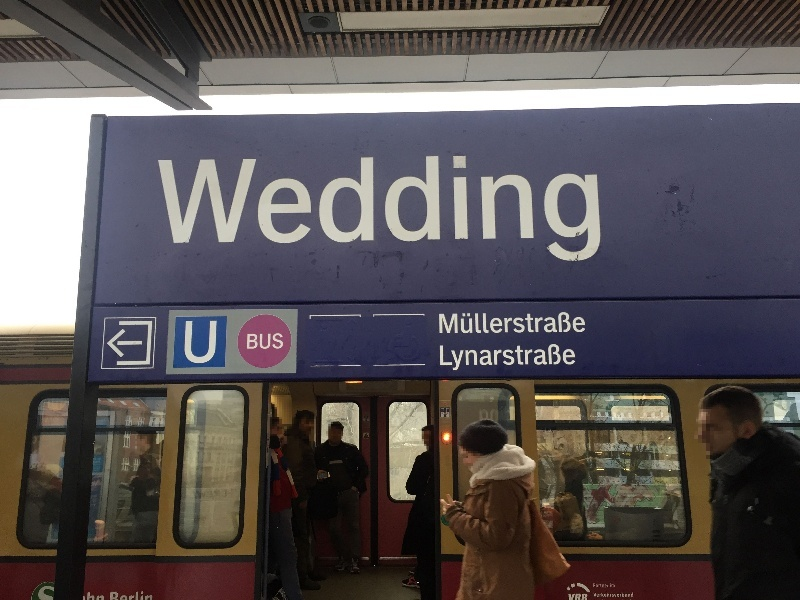text: (161, 155, 176, 266), (177, 155, 192, 266), (193, 155, 208, 266), (209, 155, 224, 266), (225, 155, 240, 266), (241, 155, 256, 266), (257, 155, 272, 266), (273, 155, 288, 266), (289, 155, 304, 266), (305, 155, 320, 266), (321, 155, 336, 266), (337, 155, 352, 266), (353, 155, 368, 266), (369, 155, 384, 266), (385, 155, 400, 266), (401, 155, 416, 266), (417, 155, 432, 266), (433, 155, 448, 266), (449, 155, 464, 266), (465, 155, 480, 266), (481, 155, 496, 266), (497, 155, 512, 266), (513, 155, 528, 266), (529, 155, 544, 266), (545, 155, 560, 266), (561, 155, 576, 266), (577, 155, 592, 266), (545, 407, 560, 510), (561, 407, 576, 510), (577, 407, 592, 510), (593, 407, 608, 510), (609, 407, 624, 510), (625, 407, 640, 510), (641, 407, 656, 510), (657, 407, 672, 510), (593, 155, 605, 266), (673, 407, 684, 510), (593, 474, 608, 529), (536, 407, 544, 510), (579, 474, 592, 529), (609, 474, 622, 529), (193, 321, 208, 364), (641, 477, 657, 511), (625, 477, 640, 511), (449, 344, 464, 372), (465, 344, 480, 372), (481, 344, 496, 372), (497, 344, 512, 372), (513, 344, 528, 372), (529, 344, 544, 372), (545, 344, 560, 372), (561, 344, 576, 372), (449, 312, 464, 335), (465, 312, 480, 335), (481, 312, 496, 335), (497, 312, 512, 335), (513, 312, 528, 335), (529, 312, 544, 335), (545, 312, 560, 335), (561, 312, 576, 335), (209, 321, 217, 364), (157, 155, 160, 266), (186, 321, 192, 364), (257, 334, 272, 350), (481, 410, 496, 425), (440, 344, 448, 372), (439, 312, 448, 335), (577, 312, 586, 335), (273, 334, 283, 350), (248, 334, 256, 350), (97, 592, 112, 600), (113, 592, 128, 600), (129, 592, 144, 600), (209, 490, 224, 498), (39, 587, 48, 600), (84, 592, 96, 600), (197, 490, 208, 498), (49, 587, 55, 600), (609, 593, 624, 598), (594, 593, 608, 598), (577, 594, 588, 600), (145, 592, 153, 600), (593, 584, 608, 588), (610, 584, 624, 588), (625, 593, 634, 598), (569, 594, 576, 600), (497, 410, 499, 425), (225, 490, 227, 498), (479, 410, 480, 425)
